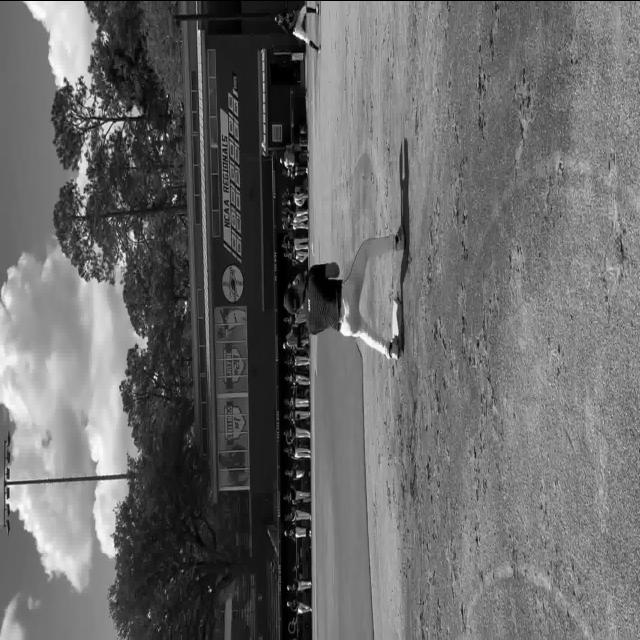base: (391, 298, 404, 338)
baseball: (262, 142, 264, 146)
shoe: (389, 333, 402, 360), (395, 224, 405, 251)
